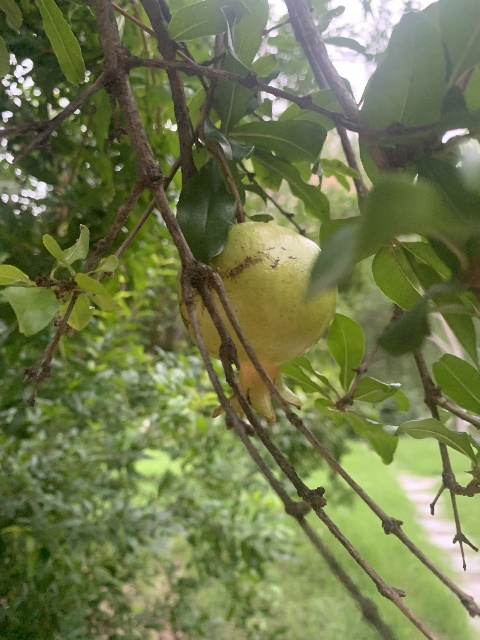mid-growth: (182, 222, 337, 426)
